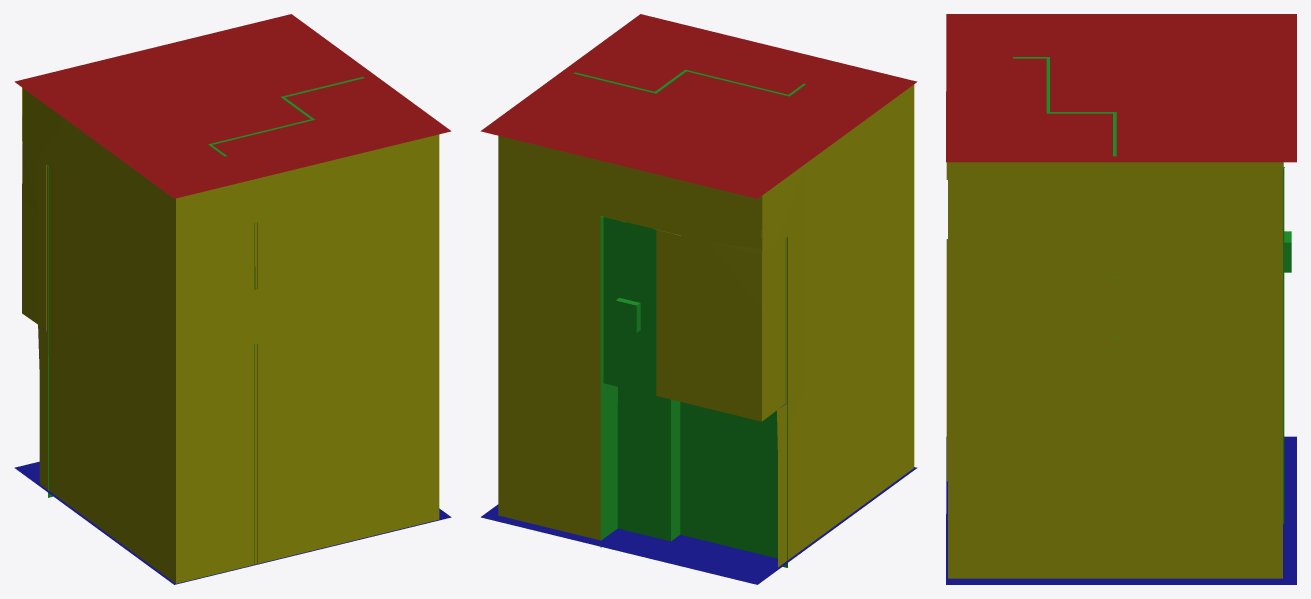
Rendered from MOD_Carousel_Shell.FBX.
3 views of the same model, side by side, from view 1: azimuth 30°, elevation 25°; view 2: azimuth 150°, elevation 25°; view 3: azimuth 270°, elevation 25° (orthographic). The views are drawn at different scales.
Parts seen in each view (by area): view 1: MOD_Carousel_Shell; view 2: MOD_Carousel_Shell; view 3: MOD_Carousel_Shell.
Boxes of the visible parts, x1,y1,x2,y2 form: MOD_Carousel_Shell: (14, 14, 451, 584); MOD_Carousel_Shell: (480, 14, 917, 584); MOD_Carousel_Shell: (946, 14, 1296, 584).
Bounding box in the file's own units: 52.5 × 71.15 × 52.55.
